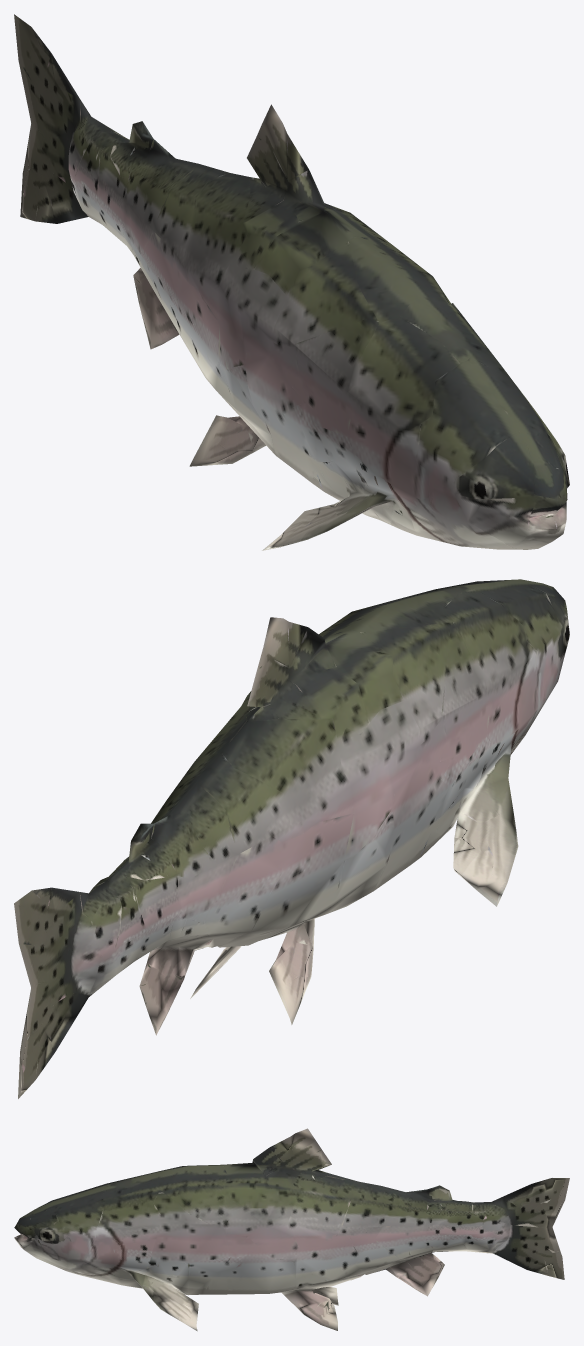
File: trucha_ps1.glb
3 renders of one model, top to bottom at view 1: azimuth 30°, elevation 25°; view 2: azimuth 150°, elevation 25°; view 3: azimuth 270°, elevation 25°, orthographic. The views are drawn at different scales.
Bounding box in the file's own units: 0.4753 × 0.7138 × 1.89.
1 material, 1 textured.
